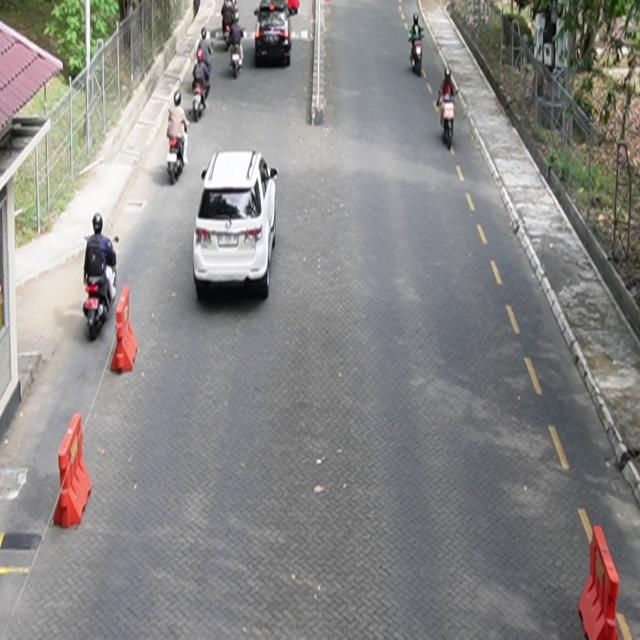car: (194, 150, 279, 301), (255, 1, 293, 68)
